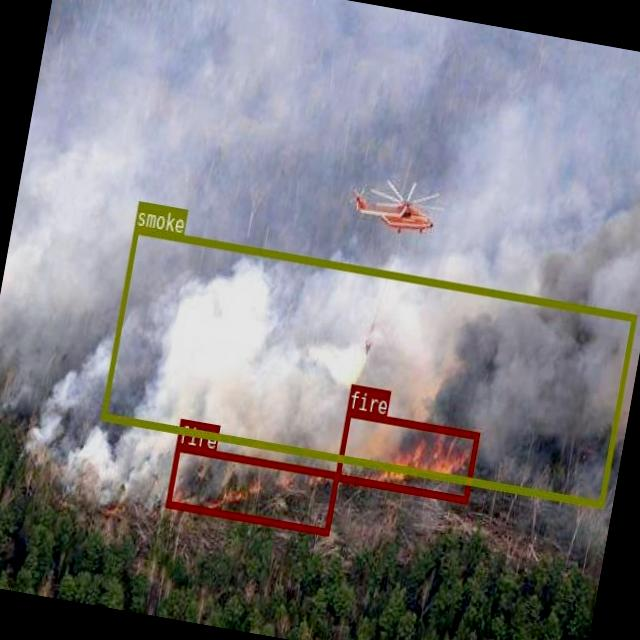fire: (164, 442, 339, 534), (334, 409, 479, 501)
smoke: (100, 224, 636, 506)
